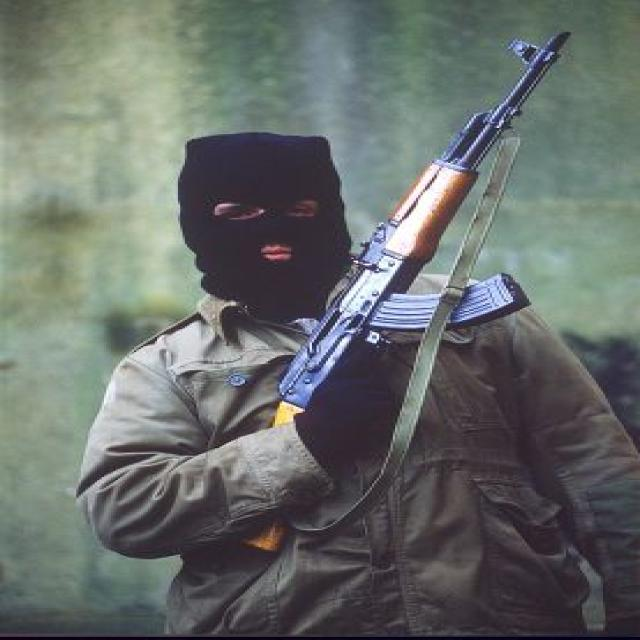Militant: (82, 74, 576, 640)
